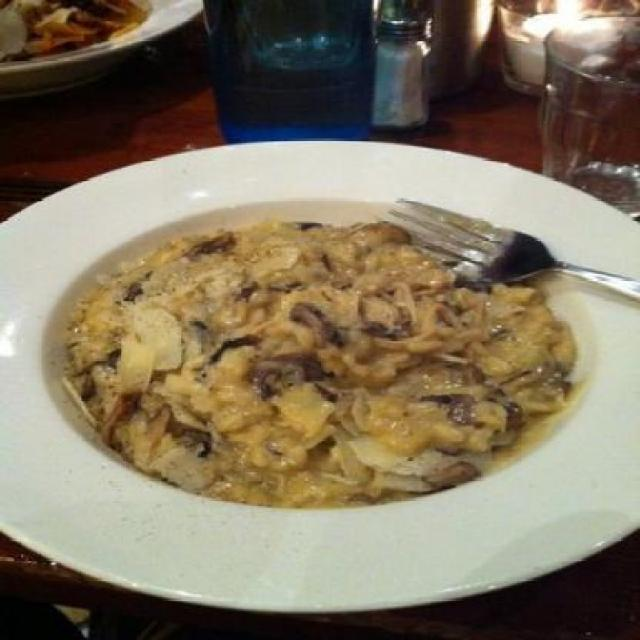Risotto: (55, 210, 580, 526)
